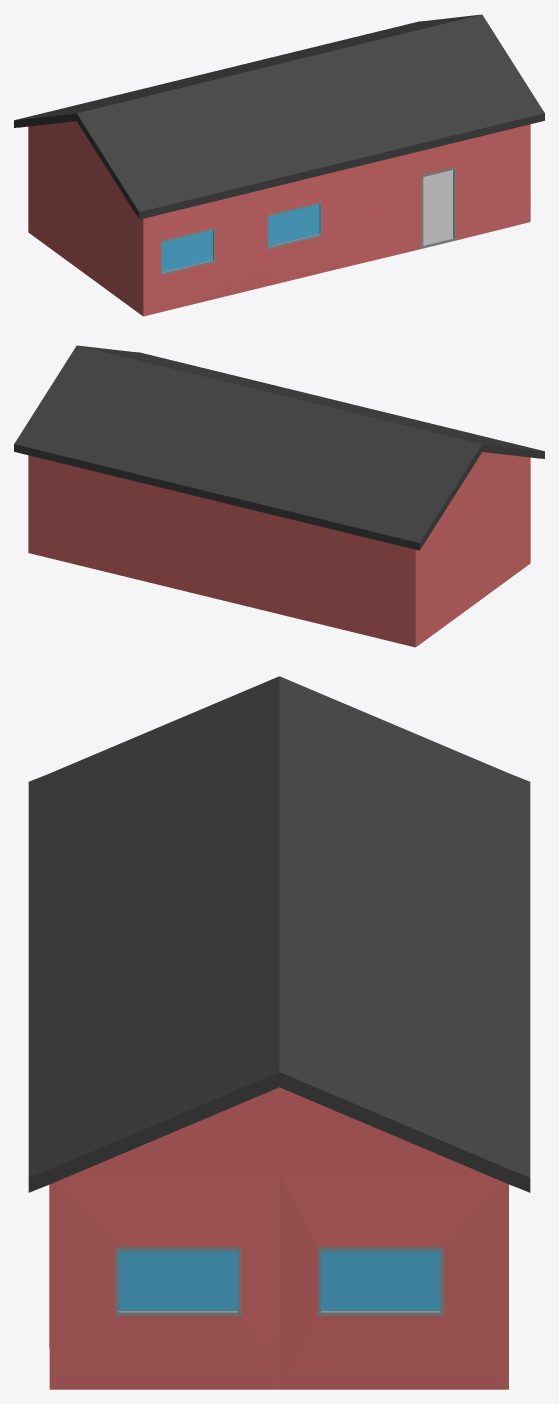
Rendered from House3.fbx.
3 views of the same model, one above another, from view 1: azimuth 30°, elevation 25°; view 2: azimuth 150°, elevation 25°; view 3: azimuth 270°, elevation 25° (orthographic). The views are drawn at different scales.
Parts seen in each view (by area): view 1: House3; view 2: House3; view 3: House3.
Boxes of the visible parts, left/top/right/bottom form: House3: left=14, top=14, right=544, bottom=316; House3: left=14, top=345, right=544, bottom=647; House3: left=28, top=676, right=530, bottom=1389.
Size of the model in its own units: 1389 by 535 by 744.
